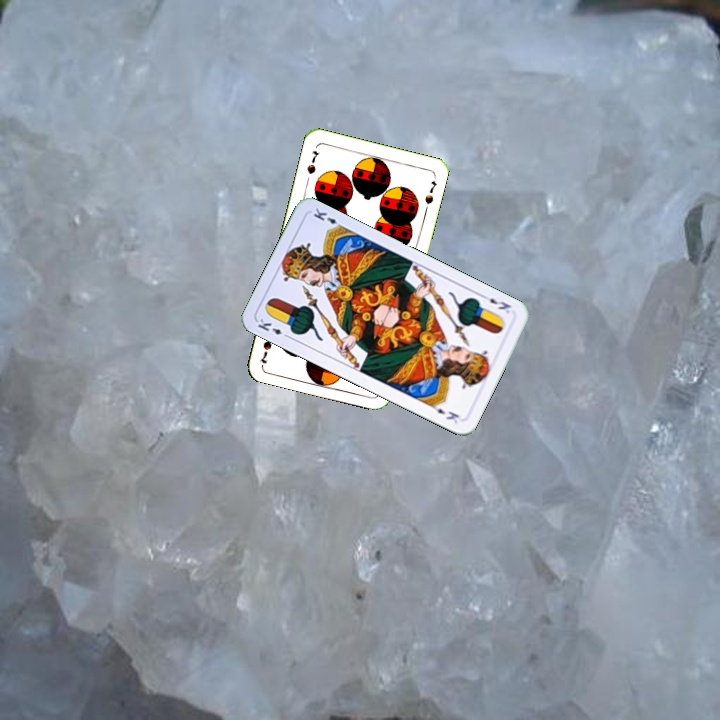EK: (253, 314, 293, 341), (478, 290, 514, 316)
S7: (303, 147, 322, 177)
